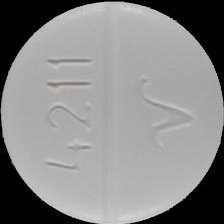68788-9075: (0, 0, 224, 224)
